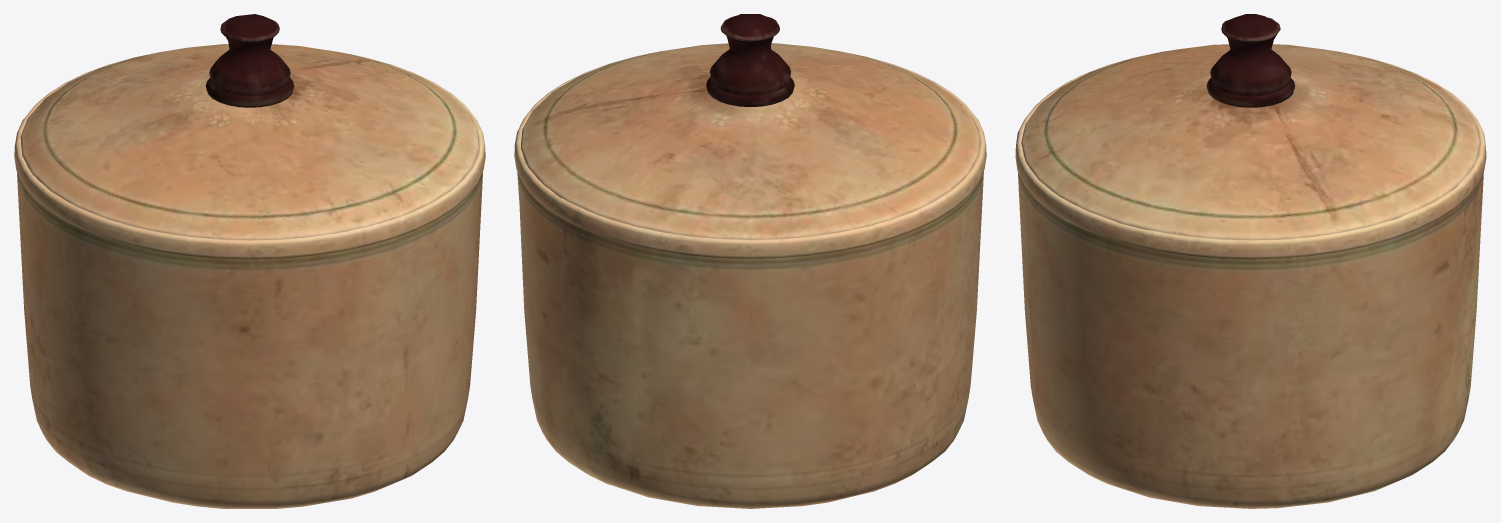
Rendered from brass_pot_01.glb.
The picture shows the model from 3 angles, left to right: view 1: azimuth 30°, elevation 25°; view 2: azimuth 150°, elevation 25°; view 3: azimuth 270°, elevation 25°; orthographic projection.
Visible parts, largest first — view 1: brass_pot_01; view 2: brass_pot_01; view 3: brass_pot_01.
Part boxes in pixels (x1,y1,x2,y2): brass_pot_01: (14, 14, 485, 508); brass_pot_01: (514, 14, 986, 508); brass_pot_01: (1015, 14, 1486, 508).
Size of the model in its own units: 0.3019 by 0.2909 by 0.3017.
1 material, 1 textured.
